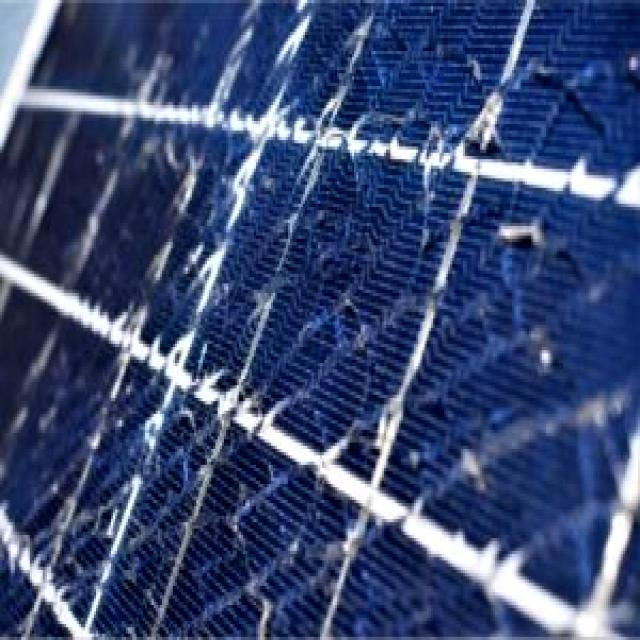hotspot: (118, 294, 334, 610), (356, 126, 514, 414)
